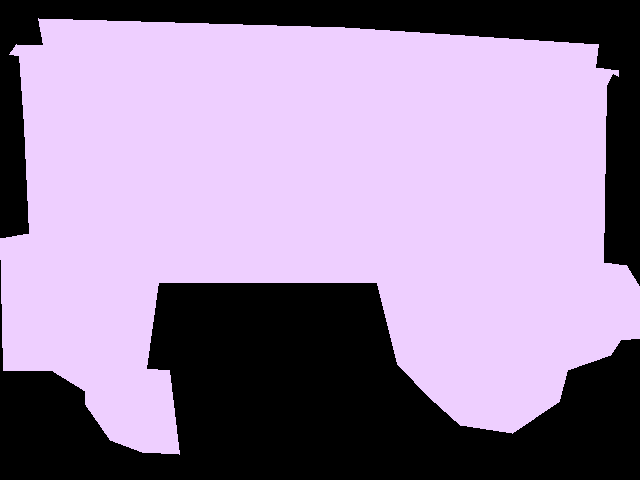Train: (0, 18, 640, 454)
